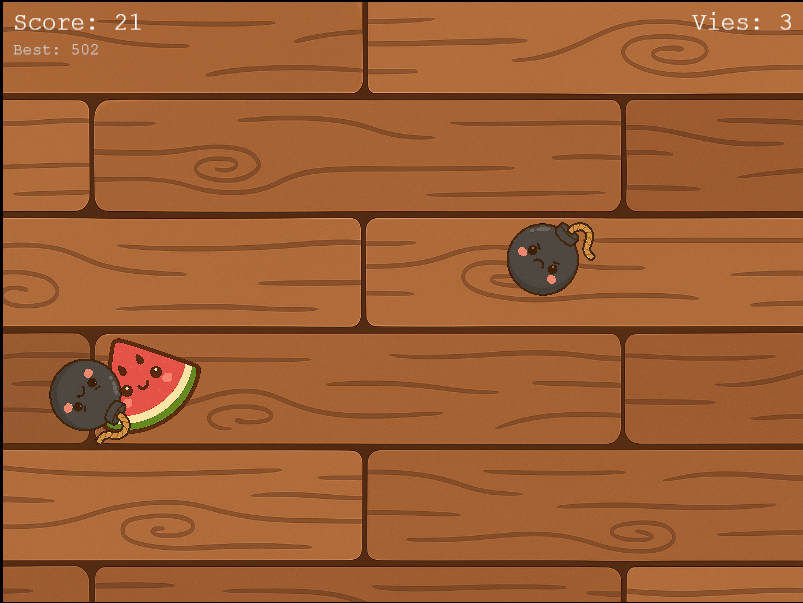bomb: (505, 216, 600, 300), (48, 357, 132, 448)
fruit: (103, 337, 202, 437)
